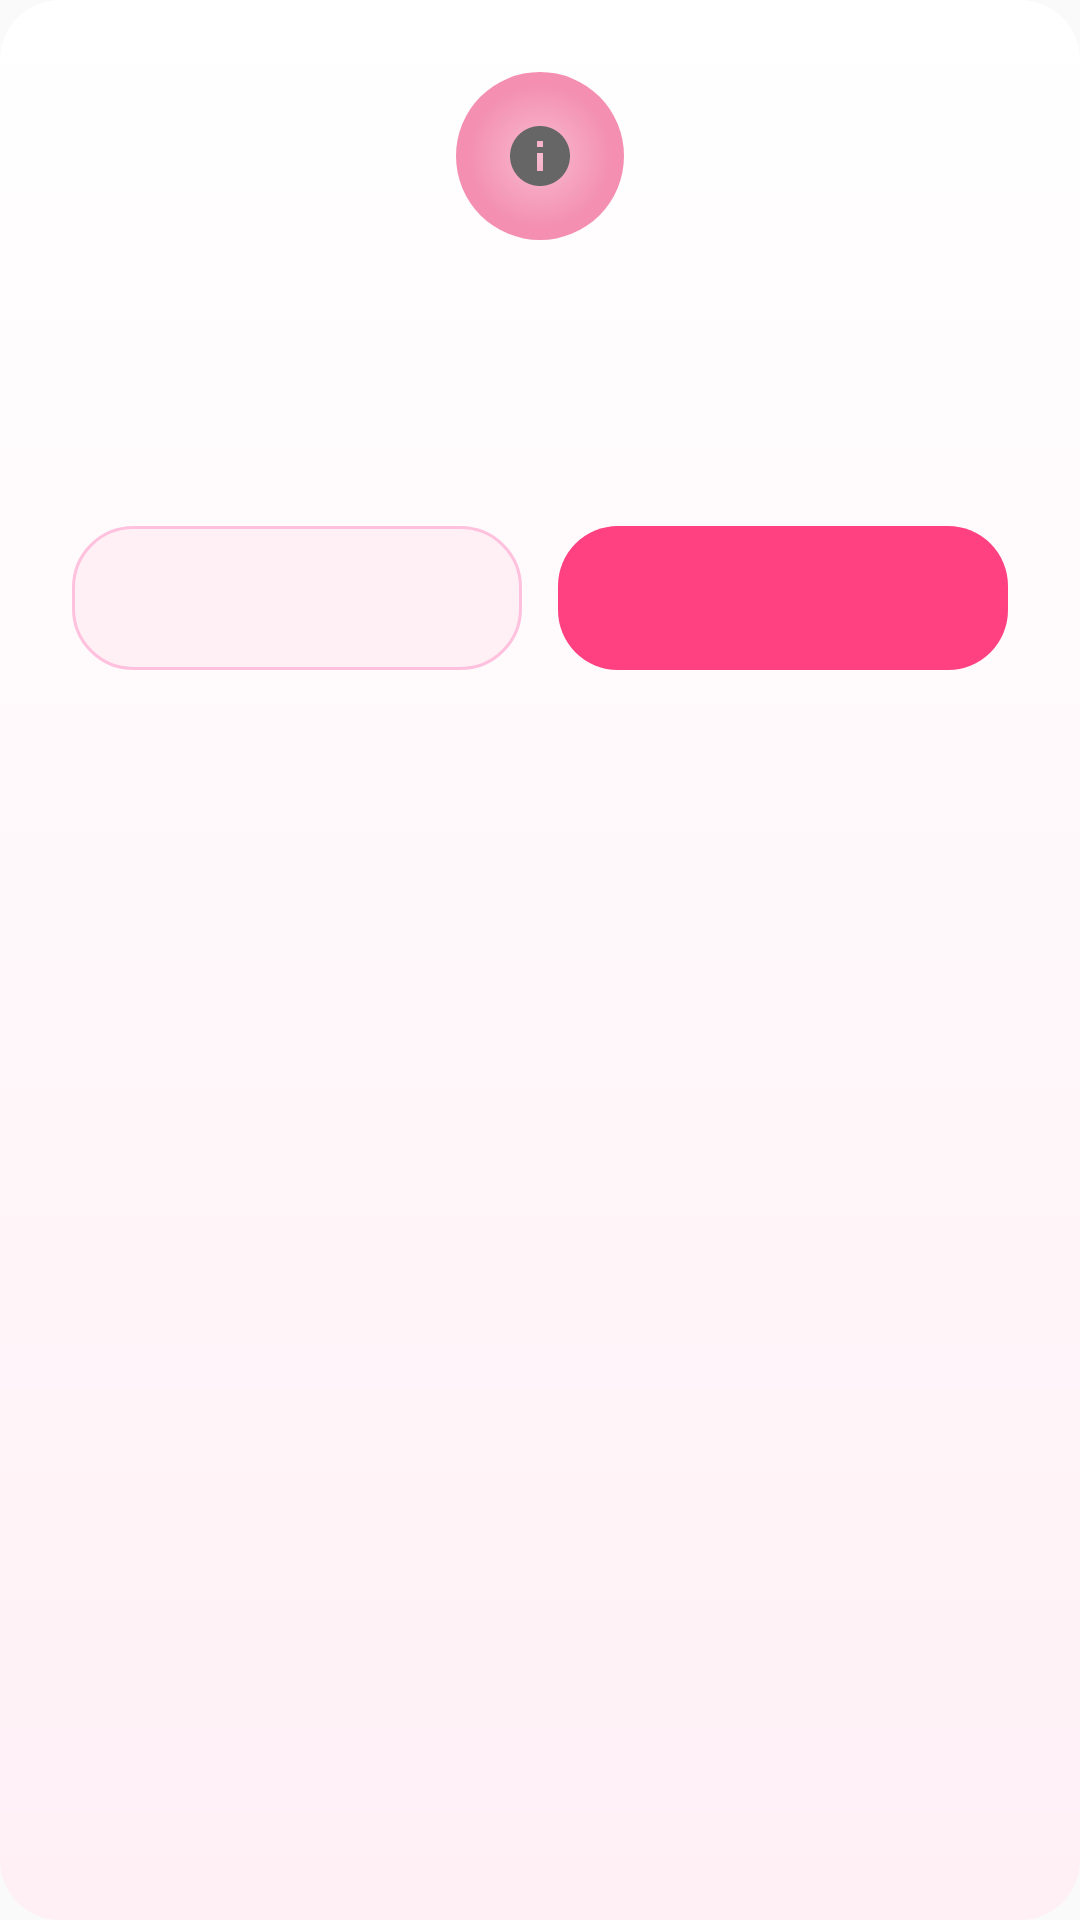

Screen size 1080×1920. Icon name, then its box in pixels as (x1, y1, x2, y2):
提示: (456, 72, 624, 240)
